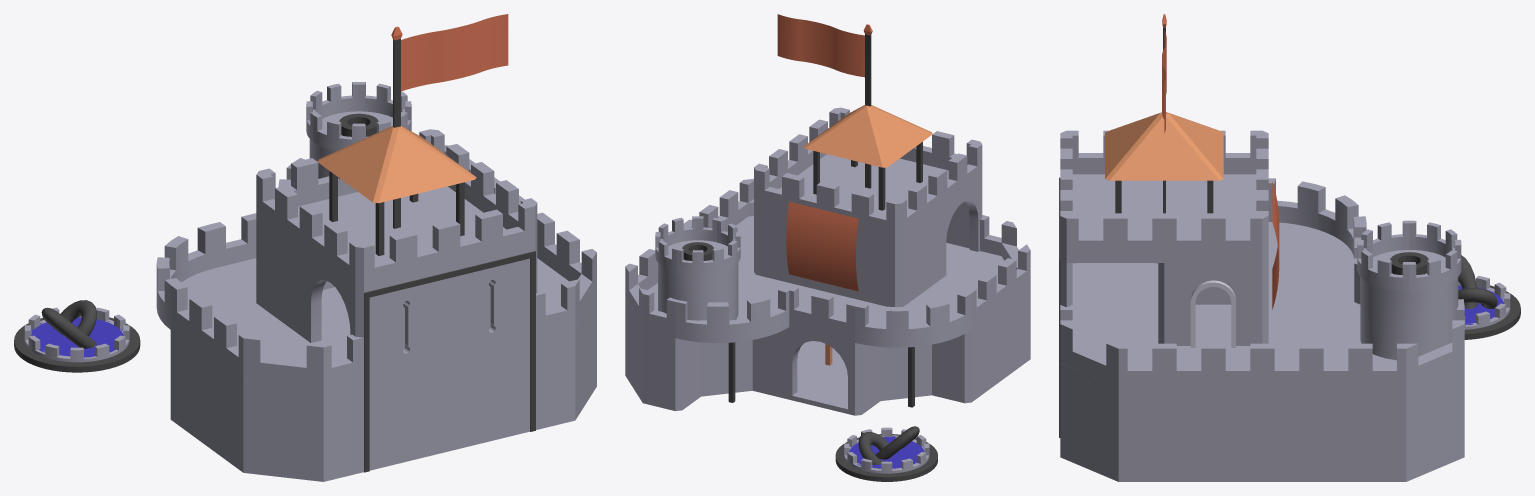
Rendered from Chateau.fbx.
3 views of the same model, side by side, from view 1: azimuth 30°, elevation 25°; view 2: azimuth 150°, elevation 25°; view 3: azimuth 270°, elevation 25° (orthographic). The views are drawn at different scales.
Visible parts, largest first — view 1: wall_straight_149, wall_cornerDiagonal_143, wall_slit_208, roof_point_200, wall_slit_207, battlement_corner_192, detail_flagSquare%_211, battlement_corner_195, wall_cornerDiagonal_142, battlement_cornerDiagonal_182, floor_square_198, wall_straight_147 (+30 smaller); view 2: wall_cornerDiagonal_144, wall_corner_206, wall_cornerDiagonal_145, roof_canvas_197, roof_point_200, detail_flagSquare%_211, wall_cornerDiagonal_140, battlement_corner_193, battlement_cornerRound%_184, battlement_cornerRound%_185, floor_square_198, cylinder_full_234 (+37 smaller); view 3: wall_straight_148, wall_cornerDiagonal_142, wall_cornerDiagonal_140, floor_square_203, floor_square_198, floor_square_172, wall_doorwayRound_201, roof_point_200, cylinder_full_234, battlement_corner_194, battlement_corner_195, battlement_cornerDiagonal_181 (+25 smaller).
Part boxes in pixels (x1,y1,x2,y2): wall_straight_149: (369, 342, 529, 470); wall_cornerDiagonal_143: (220, 366, 363, 481); wall_slit_208: (355, 278, 449, 380); roof_point_200: (317, 126, 476, 203); wall_slit_207: (449, 248, 537, 361); battlement_corner_192: (306, 207, 451, 292); detail_flagSquare%_211: (391, 14, 508, 228); battlement_corner_195: (443, 165, 537, 271); wall_cornerDiagonal_142: (536, 297, 596, 427); battlement_cornerDiagonal_182: (220, 318, 363, 391); floor_square_198: (298, 186, 506, 261); wall_straight_147: (170, 330, 220, 455); wall_cornerDiagonal_144: (855, 330, 971, 415); wall_corner_206: (825, 210, 942, 306); wall_cornerDiagonal_145: (682, 329, 785, 409); roof_canvas_197: (786, 201, 858, 291); roof_point_200: (803, 105, 932, 167); detail_flagSquare%_211: (777, 14, 872, 188); wall_cornerDiagonal_140: (625, 303, 682, 411); battlement_corner_193: (824, 172, 942, 240); battlement_cornerRound%_184: (853, 290, 971, 347); battlement_cornerRound%_185: (674, 286, 790, 342); floor_square_198: (779, 154, 948, 214); cylinder_full_234: (658, 240, 738, 320); wall_straight_148: (1164, 393, 1360, 481); wall_cornerDiagonal_142: (1060, 368, 1164, 481); wall_cornerDiagonal_140: (1360, 368, 1464, 481); floor_square_203: (1072, 259, 1273, 348); floor_square_198: (1072, 174, 1256, 235); floor_square_172: (1268, 255, 1360, 348); wall_doorwayRound_201: (1158, 260, 1268, 347); roof_point_200: (1105, 112, 1223, 180); cylinder_full_234: (1360, 250, 1458, 360); battlement_corner_194: (1159, 172, 1268, 262); battlement_corner_195: (1060, 172, 1169, 262); battlement_cornerDiagonal_181: (1060, 305, 1169, 393).
Bounding box in the file's own units: 47 × 45.17 × 47.12.
